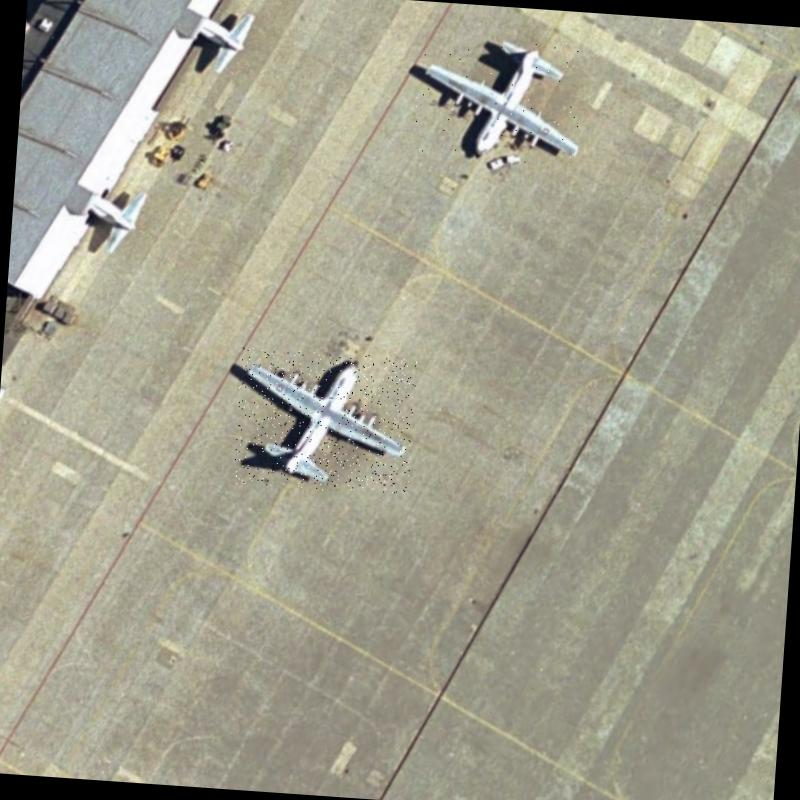A2: (232, 346, 417, 496), (410, 30, 586, 166)
